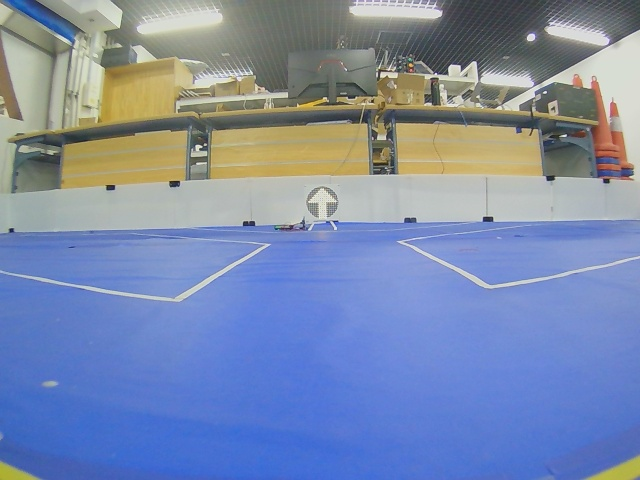straight_yellow: (307, 187, 338, 220)
